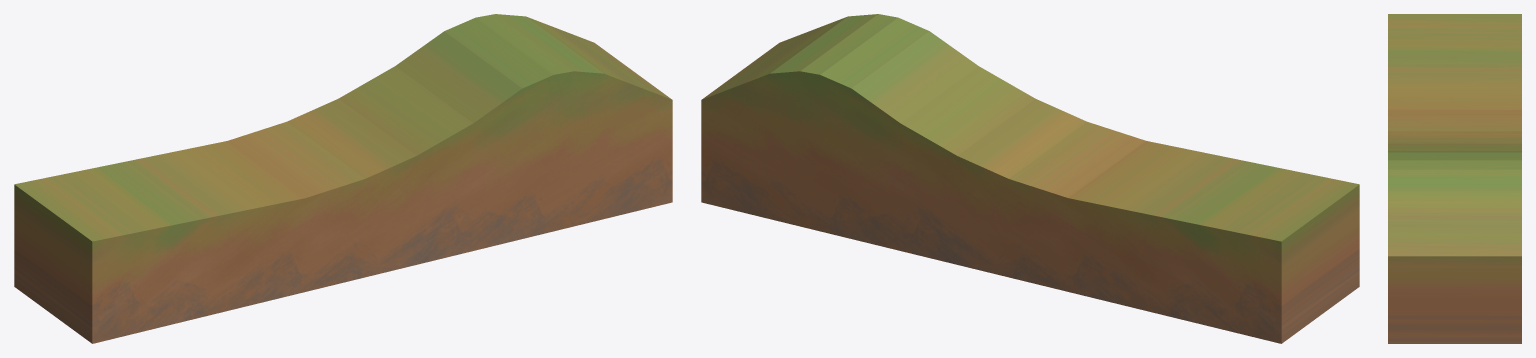
The model's file is CurvedGround.obj.
3 views of the same model, side by side, from view 1: azimuth 30°, elevation 25°; view 2: azimuth 150°, elevation 25°; view 3: azimuth 270°, elevation 25° (orthographic). The views are drawn at different scales.
Parts seen in each view (by area): view 1: Plane; view 2: Plane; view 3: Plane.
Part boxes in pixels (bbox=[...]): Plane: bbox=[14, 14, 672, 343]; Plane: bbox=[701, 14, 1359, 343]; Plane: bbox=[1388, 14, 1521, 343].
Size of the model in its own units: 35.59 by 9.17 by 8.31.
